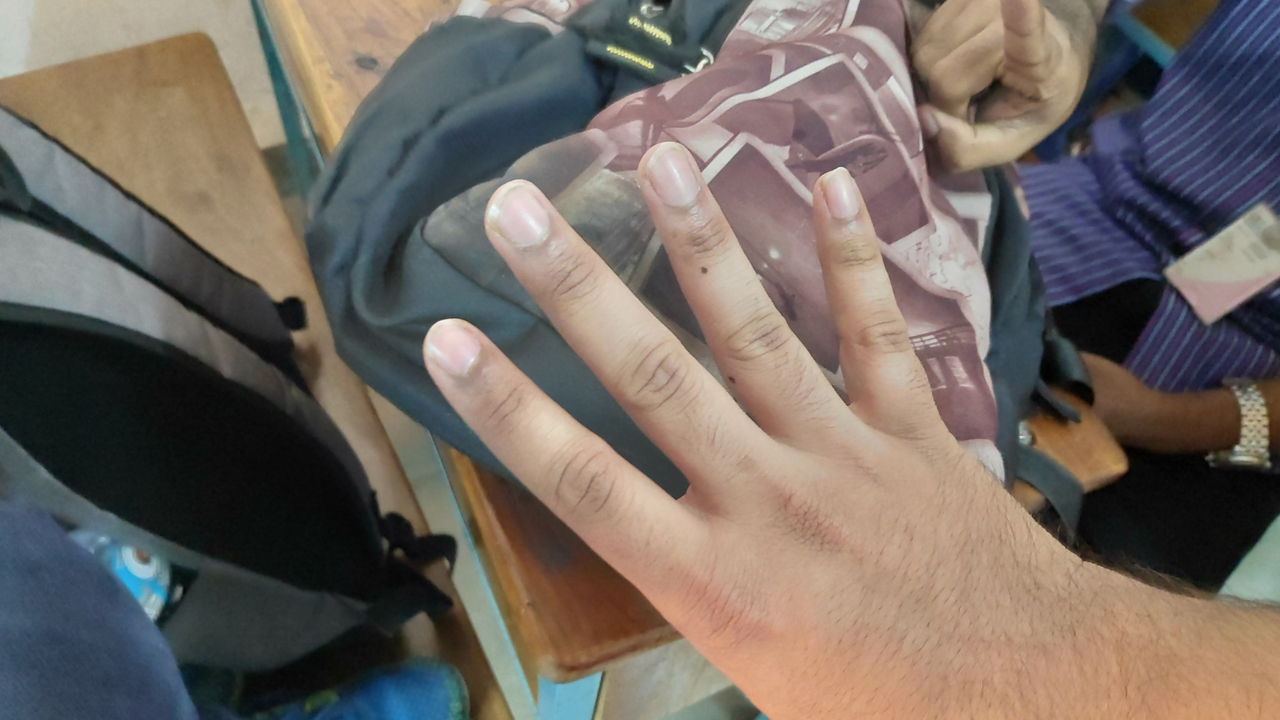fingertip: (470, 172, 552, 248), (408, 312, 492, 380), (634, 132, 708, 206), (808, 160, 870, 230)
